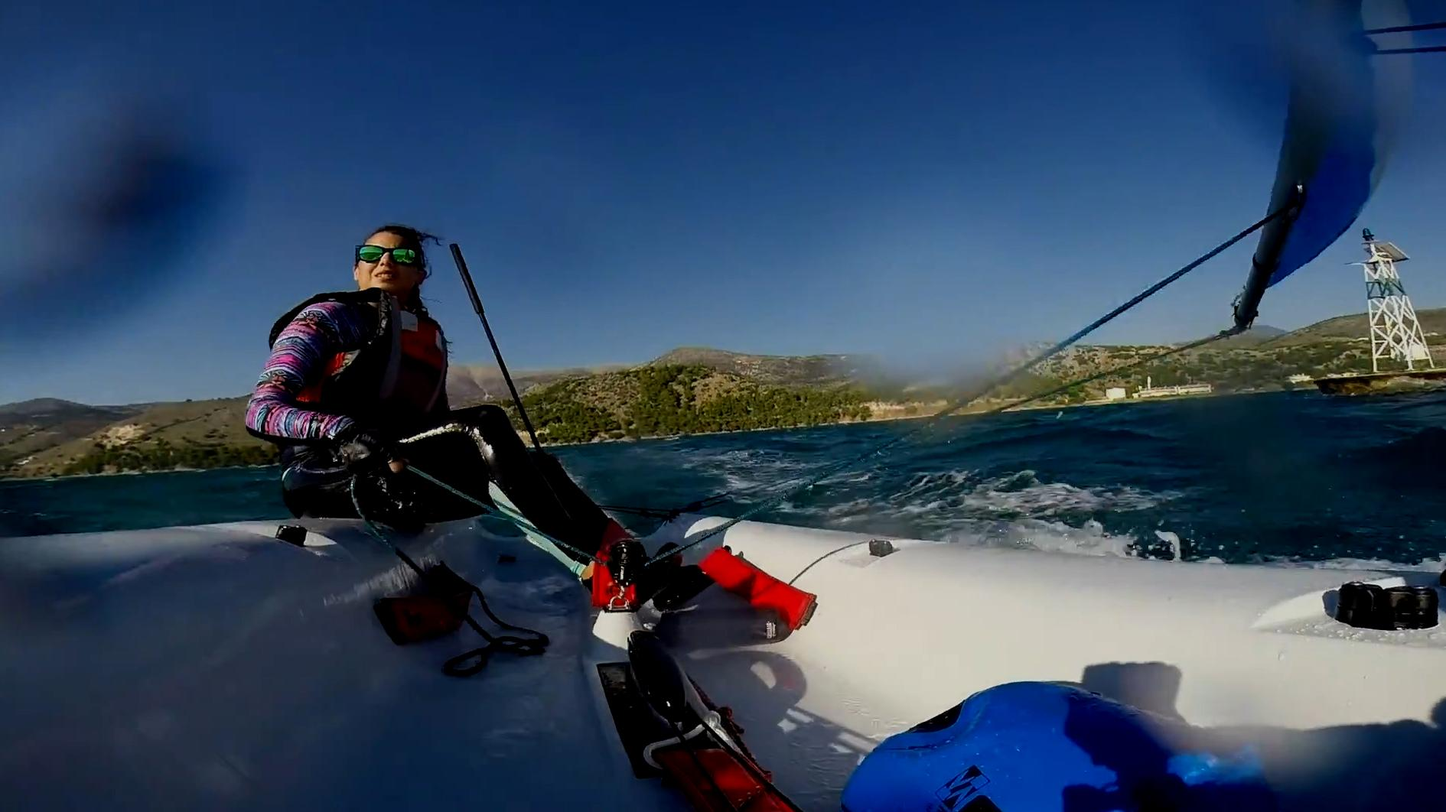boat: (0, 512, 1446, 812), (1229, 0, 1386, 335)
land: (454, 229, 1446, 443), (0, 399, 278, 481)
person: (246, 229, 677, 607)
sea: (549, 389, 1446, 566), (0, 471, 288, 532)
sky: (0, 0, 1290, 408), (1262, 0, 1446, 332)
